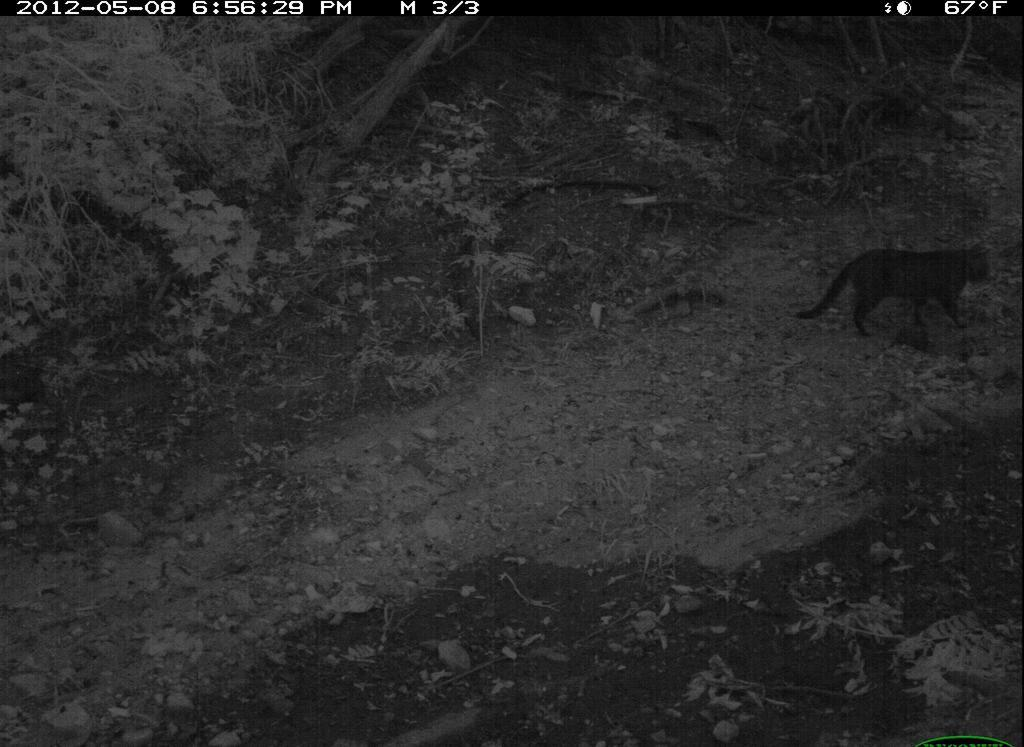cat: (789, 232, 1012, 354)
